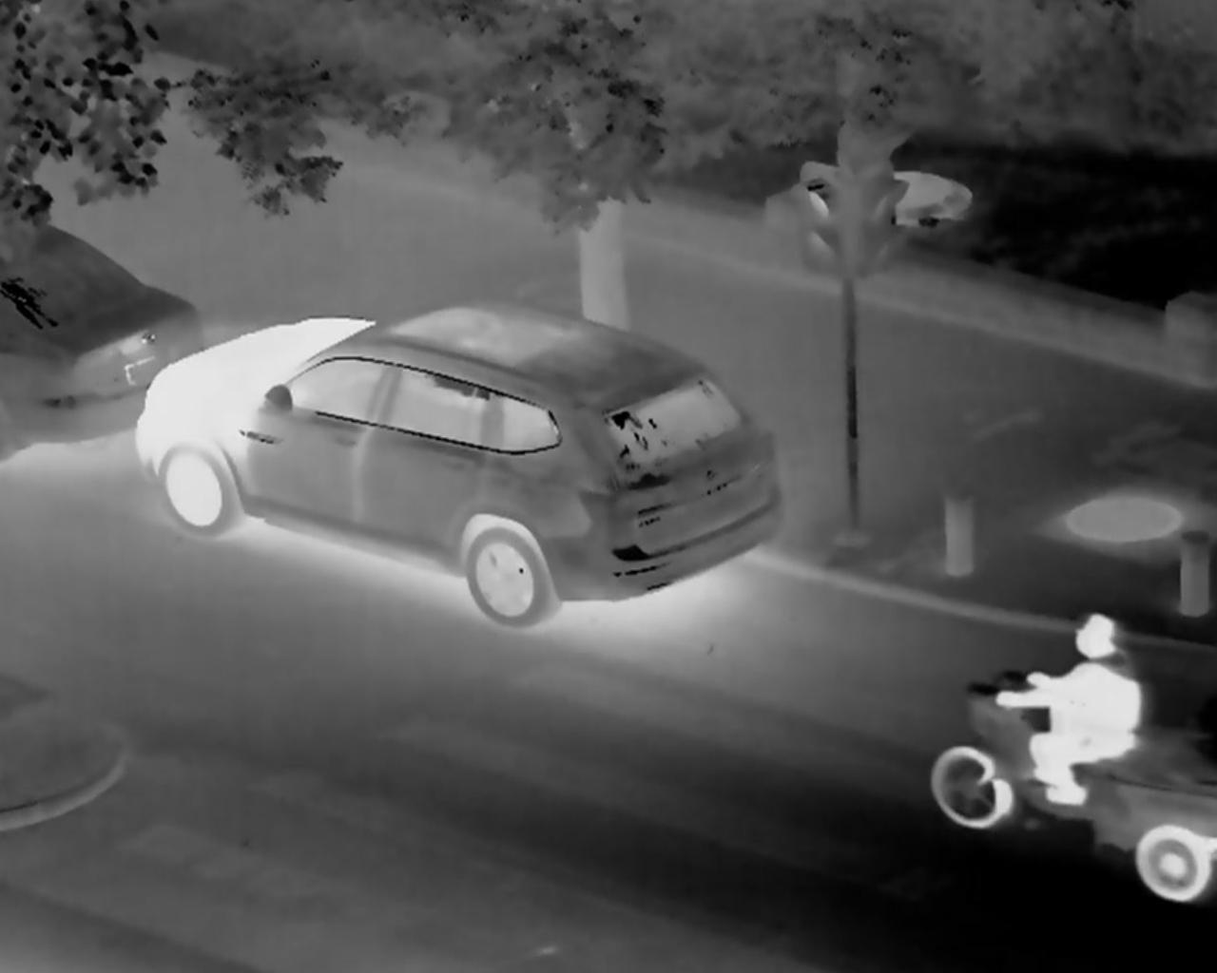person: (1041, 601, 1159, 788)
